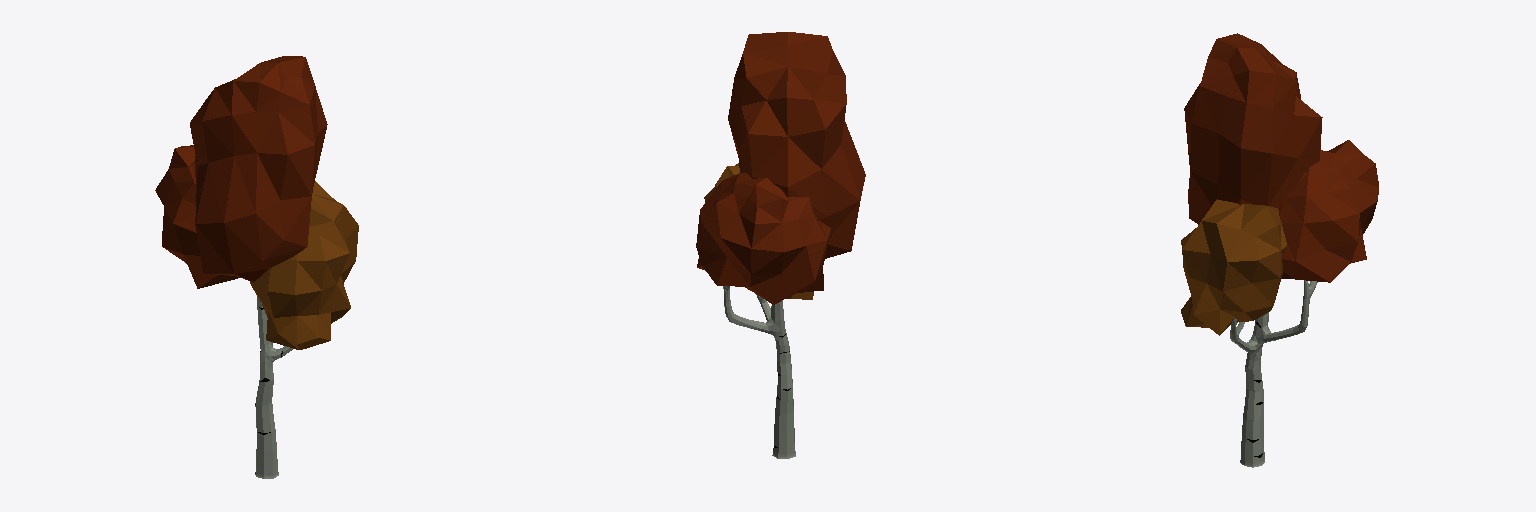
Rendered from BirchTree_Autumn_3_Cube.obj.
3 renders of one model, left to right at view 1: azimuth 30°, elevation 25°; view 2: azimuth 150°, elevation 25°; view 3: azimuth 270°, elevation 25°, orthographic.
Parts seen in each view (by area): view 1: BirchTree_Autumn_3_Cube.082; view 2: BirchTree_Autumn_3_Cube.082; view 3: BirchTree_Autumn_3_Cube.082.
Part boxes in pixels (x1,y1,x2,y2): BirchTree_Autumn_3_Cube.082: (155,56,358,478); BirchTree_Autumn_3_Cube.082: (696,32,865,458); BirchTree_Autumn_3_Cube.082: (1181,33,1378,467).
Size of the model in its own units: 1.57 by 4.09 by 1.77.